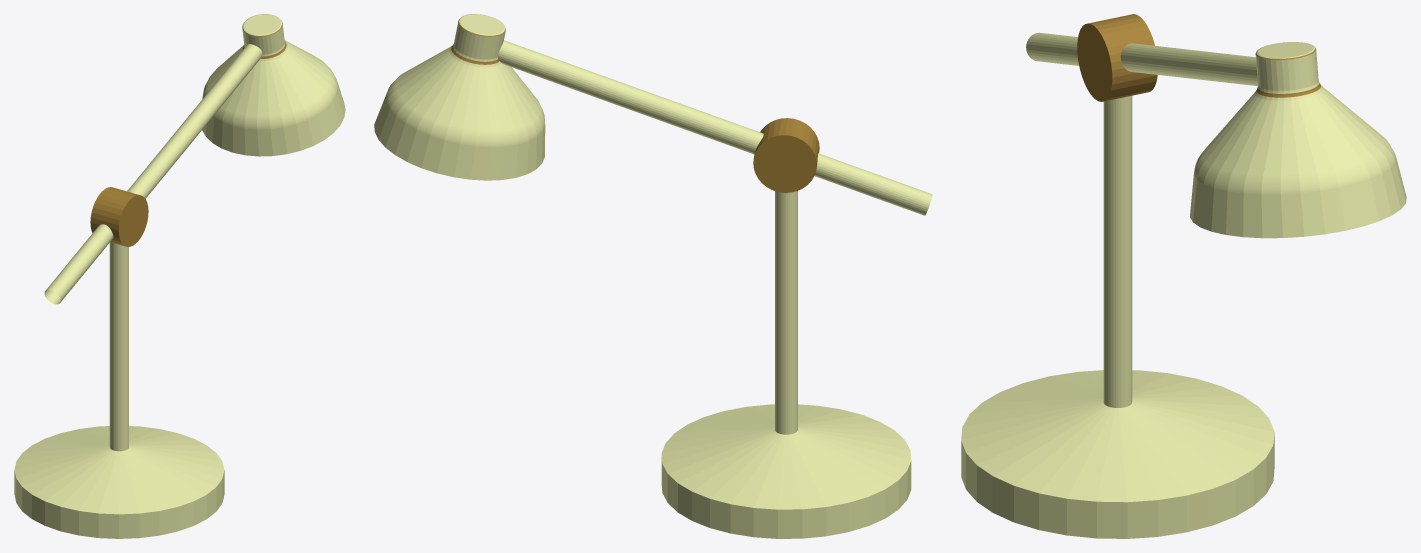
Rendered from Lamp.fbx.
3 views of the same model, side by side, from view 1: azimuth 30°, elevation 25°; view 2: azimuth 150°, elevation 25°; view 3: azimuth 270°, elevation 25° (orthographic). The views are drawn at different scales.
Parts seen in each view (by area): view 1: Cylinder.003; view 2: Cylinder.003; view 3: Cylinder.003.
Boxes of the visible parts, x1,y1,x2,y2 form: Cylinder.003: [14, 14, 345, 538]; Cylinder.003: [374, 14, 932, 538]; Cylinder.003: [961, 14, 1406, 538].
Size of the model in its own units: 222 by 218 by 154.
